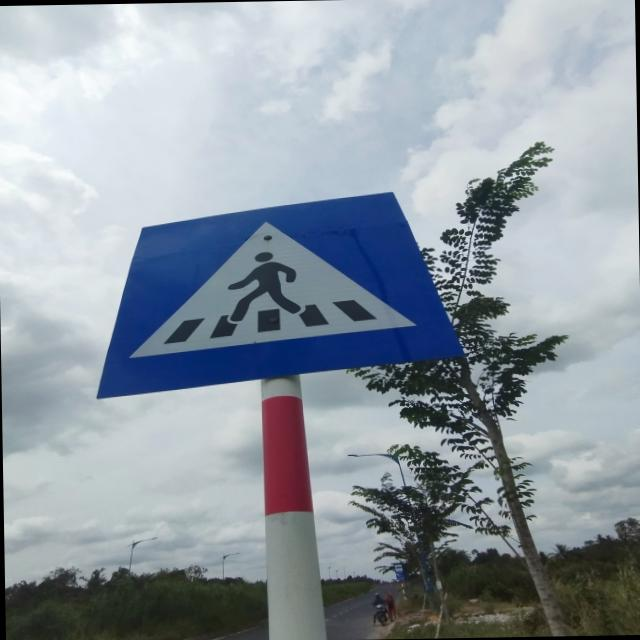Giao_Nhau_Duong_Uu_Tien: (94, 190, 467, 400)
